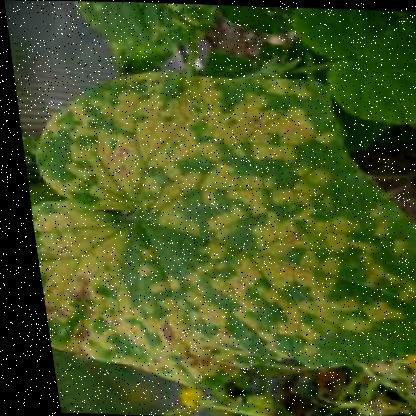DownyMildew: (36, 116, 359, 365)
